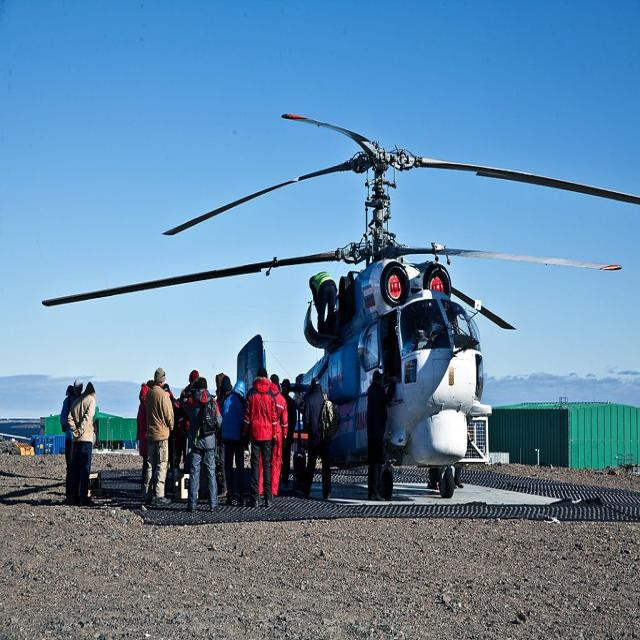body: (296, 375, 342, 501), (183, 376, 223, 513), (242, 365, 279, 509), (142, 365, 174, 508), (165, 367, 200, 482), (366, 369, 396, 502), (258, 374, 289, 500), (67, 380, 97, 509), (220, 379, 248, 508), (59, 379, 84, 506), (136, 379, 155, 496), (280, 378, 298, 488), (309, 271, 338, 337), (214, 372, 228, 499), (222, 374, 232, 402)
